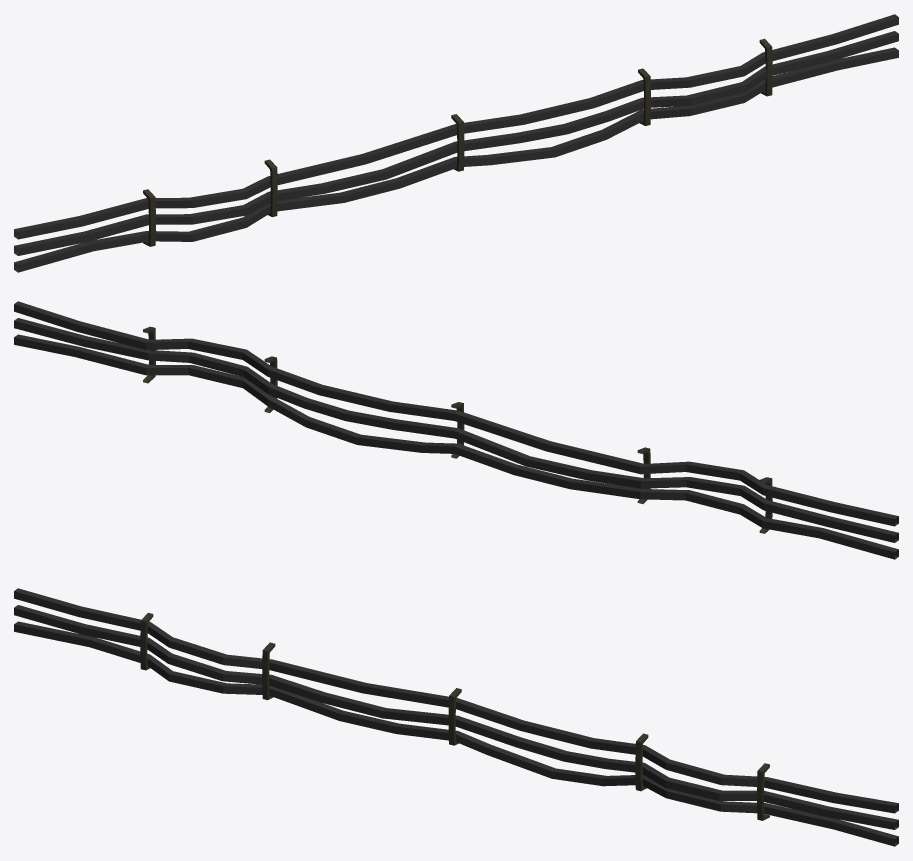
Rendered from SW_ENV_Wires3_RailTunnelWall_06_05m.fbx.
3 views of the same model, one above another, from view 1: azimuth 30°, elevation 25°; view 2: azimuth 150°, elevation 25°; view 3: azimuth 330°, elevation 25° (orthographic).
Visible parts, largest first — view 1: SW_ENV_Wires3_RailTunnelWall_06_05m; view 2: SW_ENV_Wires3_RailTunnelWall_06_05m; view 3: SW_ENV_Wires3_RailTunnelWall_06_05m.
Boxes of the visible parts, x1,y1,x2,y2 form: SW_ENV_Wires3_RailTunnelWall_06_05m: [14, 14, 898, 272]; SW_ENV_Wires3_RailTunnelWall_06_05m: [14, 301, 898, 559]; SW_ENV_Wires3_RailTunnelWall_06_05m: [14, 588, 898, 846].
Size of the model in its own units: 500 by 34.44 by 15.54.
